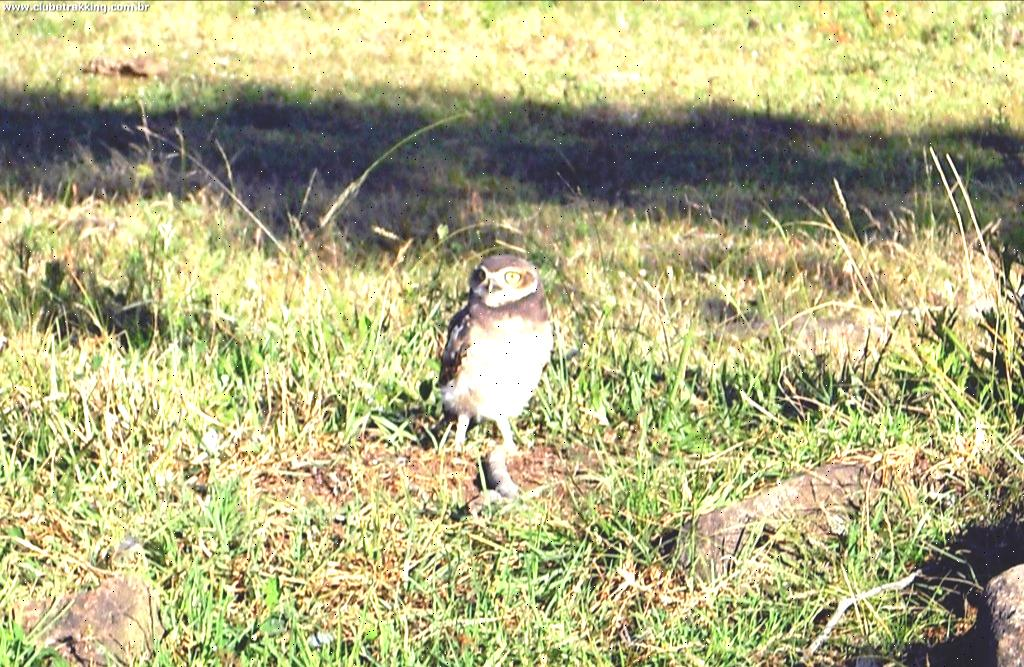Owl: (440, 251, 570, 458)
